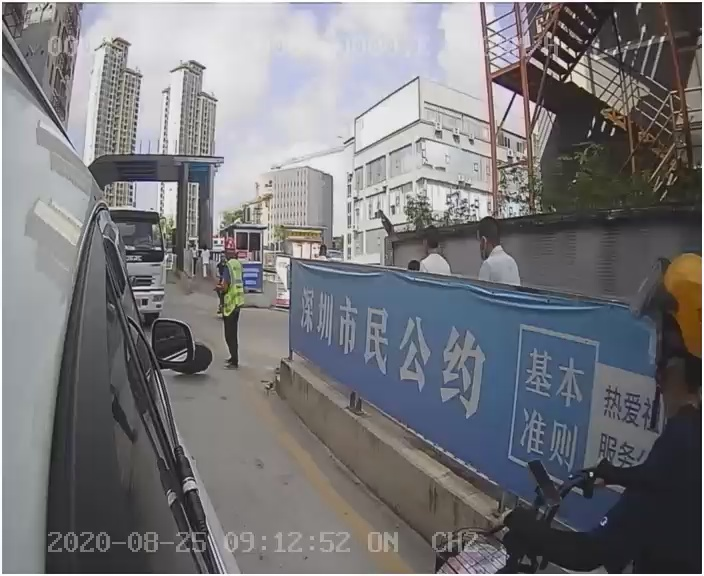person: (211, 237, 256, 374)
